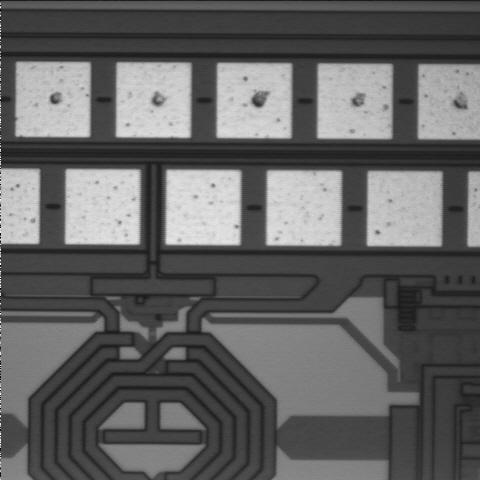pad: (65, 169, 140, 244), (116, 63, 190, 138), (166, 170, 240, 245), (16, 63, 90, 137), (217, 64, 291, 138), (267, 171, 341, 245), (318, 64, 391, 138), (368, 172, 441, 246)
